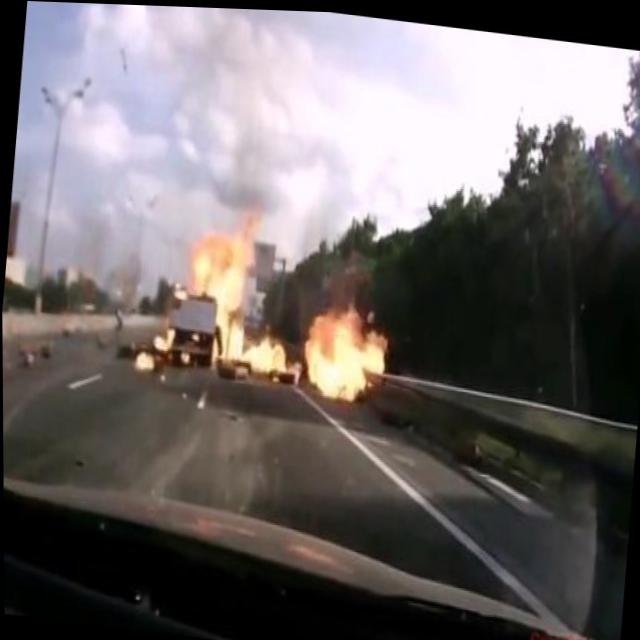fire: (129, 188, 313, 401), (298, 283, 395, 413)
